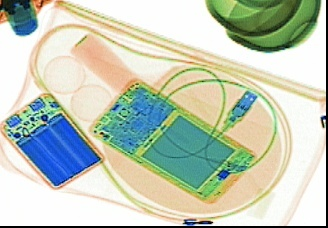powerbank: (1, 90, 100, 187)
